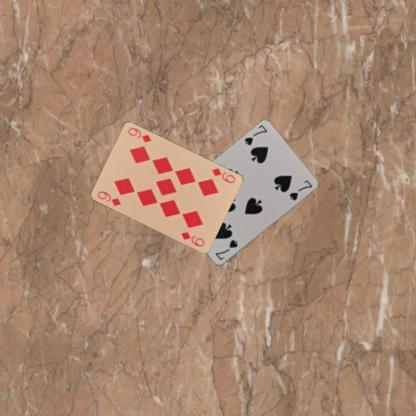7s: (242, 122, 269, 148), (212, 237, 238, 262)
9d: (95, 188, 122, 207), (209, 166, 236, 184)
